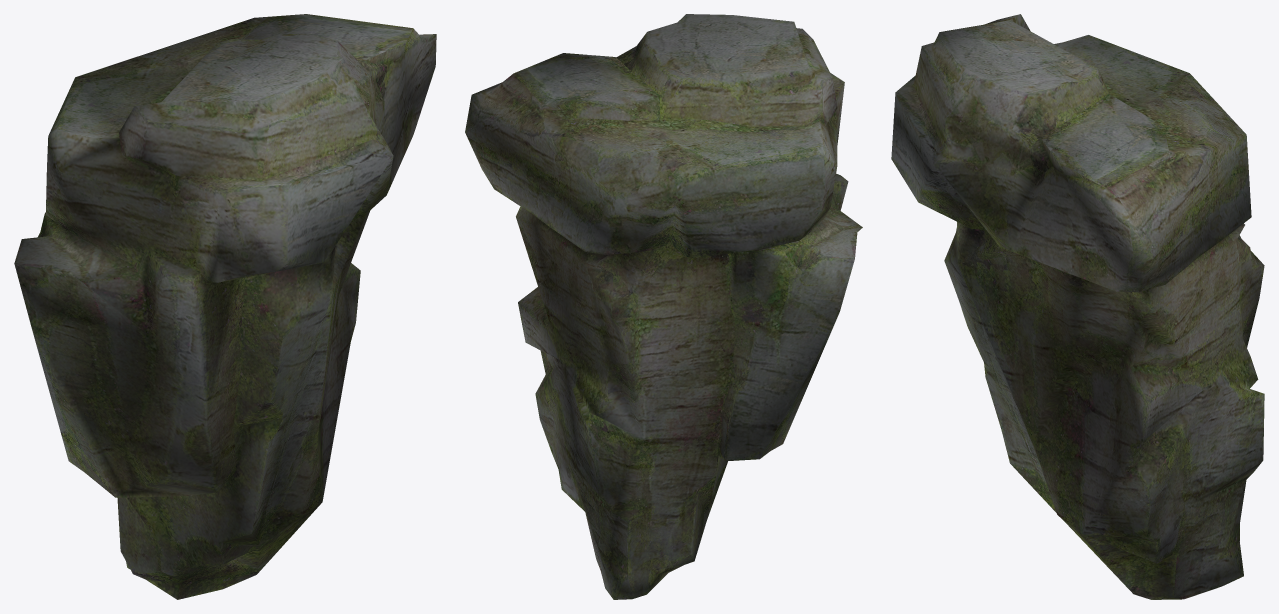
The model's file is CLX_shitou_03.FBX.
3 views of the same model, side by side, from view 1: azimuth 30°, elevation 25°; view 2: azimuth 150°, elevation 25°; view 3: azimuth 270°, elevation 25° (orthographic). The views are drawn at different scales.
Parts seen in each view (by area): view 1: CLX_shitou_03; view 2: CLX_shitou_03; view 3: CLX_shitou_03.
Boxes of the visible parts, x1,y1,x2,y2 form: CLX_shitou_03: [14, 14, 436, 599]; CLX_shitou_03: [465, 14, 862, 599]; CLX_shitou_03: [891, 14, 1264, 599].
Size of the model in its own units: 2.5 by 3.16 by 2.04.
